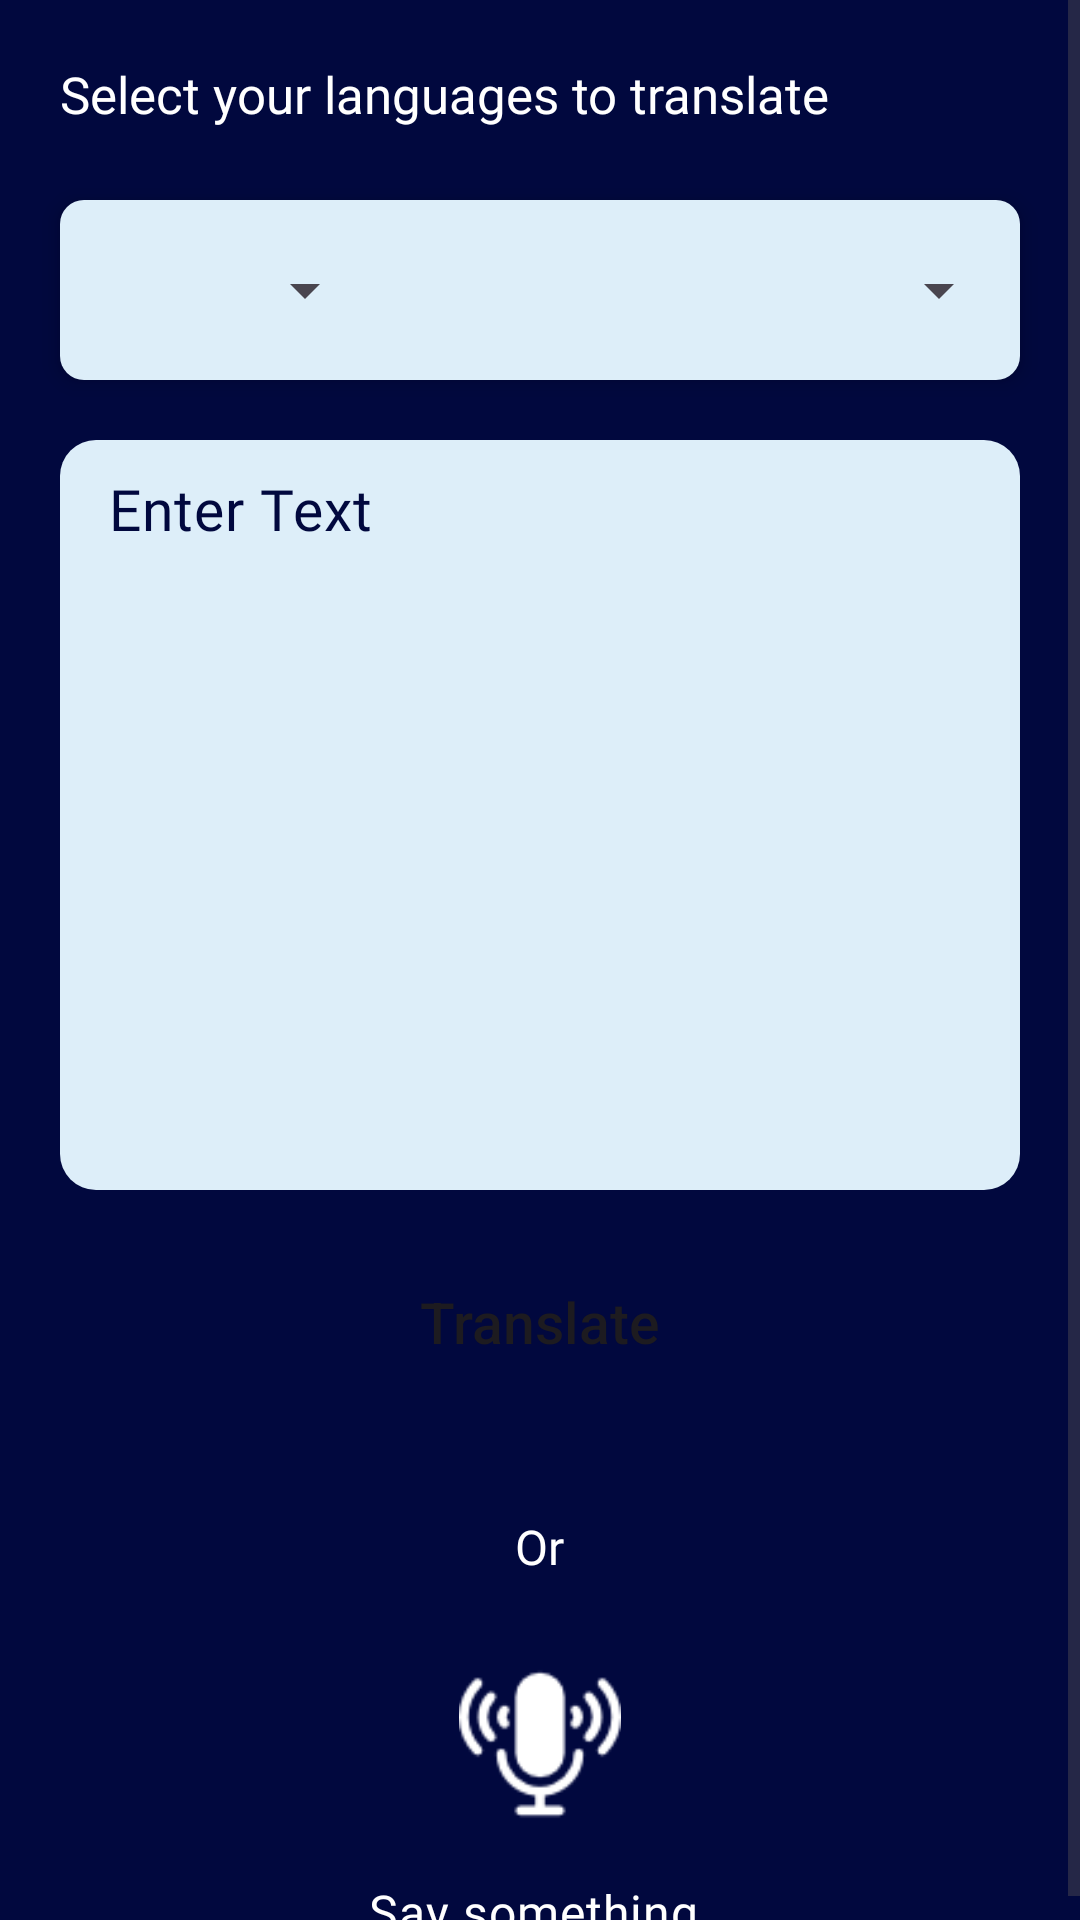

Icon bounding boxes for this 1080px×1920px phone screenshot, format BBox(x1, y1, x2, y2):
voice recorder: BBox(459, 1672, 621, 1817)
